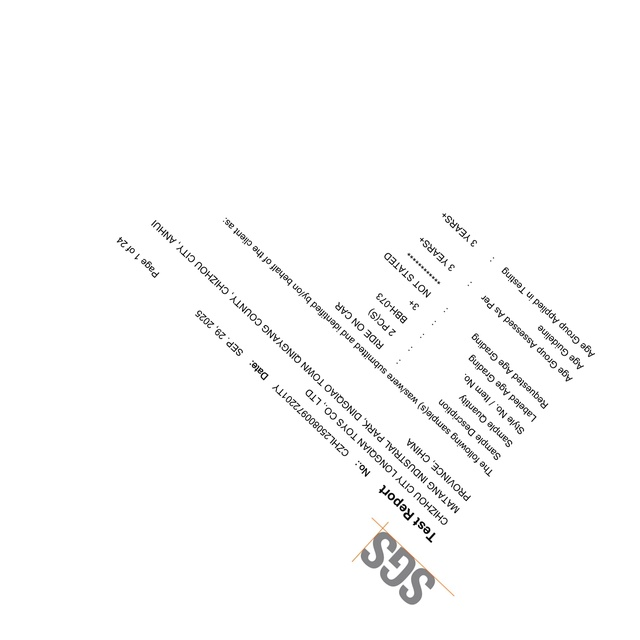sgs: (359, 531, 436, 605)
